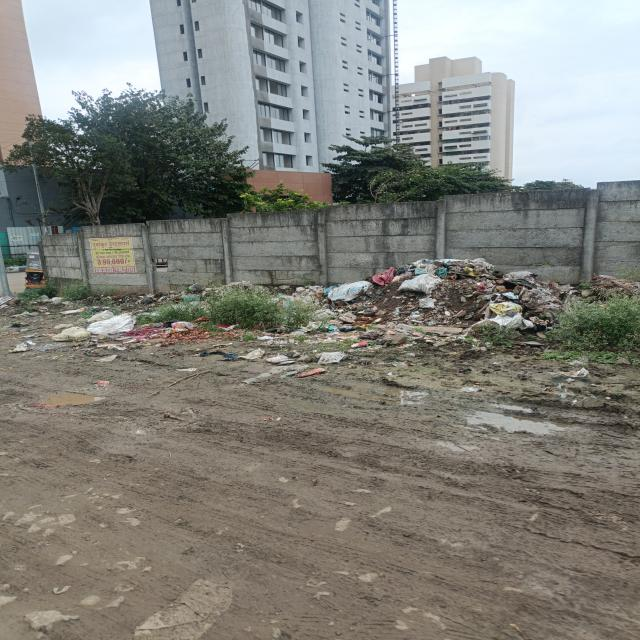garbage: (338, 259, 624, 340), (54, 282, 248, 346)
